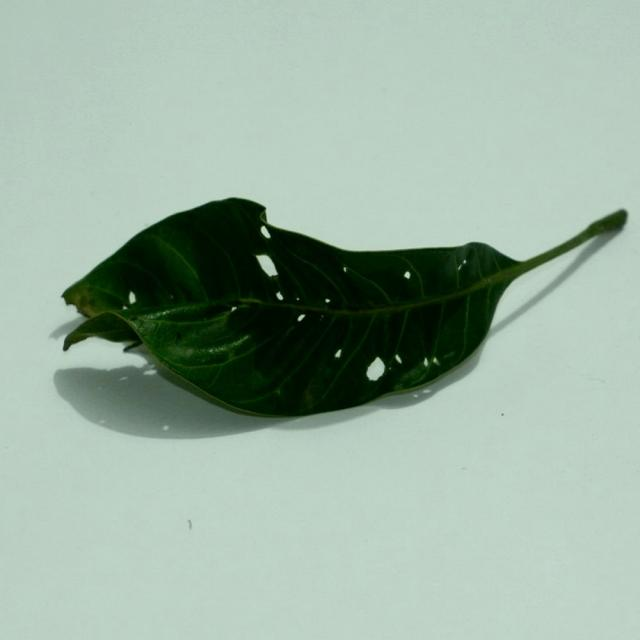Anthracnose: (255, 254, 276, 278), (367, 359, 387, 383), (260, 226, 271, 239), (128, 291, 137, 305), (143, 367, 158, 375), (423, 356, 431, 369), (275, 290, 284, 301), (432, 357, 441, 367), (395, 354, 403, 365), (122, 300, 130, 310), (403, 271, 411, 280), (297, 314, 306, 322), (230, 305, 238, 314), (334, 349, 341, 359), (458, 263, 464, 272), (324, 298, 331, 305), (342, 266, 348, 274), (461, 259, 467, 266), (169, 294, 175, 301), (413, 393, 420, 398)
Mango: (58, 198, 628, 421)
